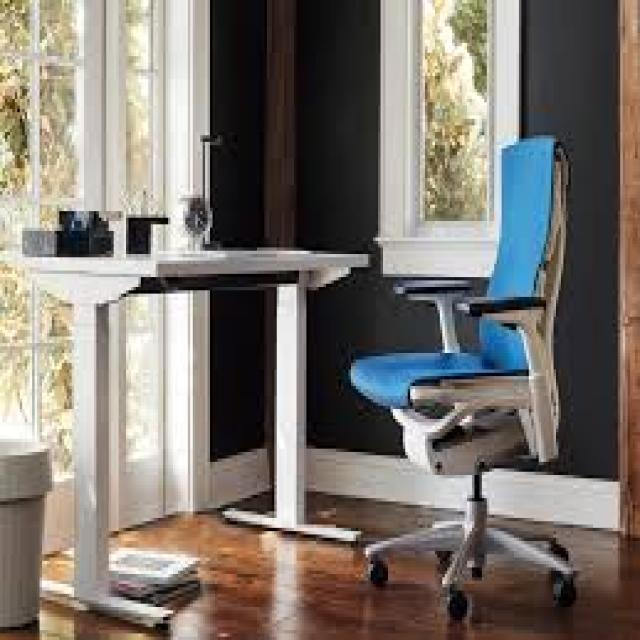chair: (325, 100, 640, 640)
